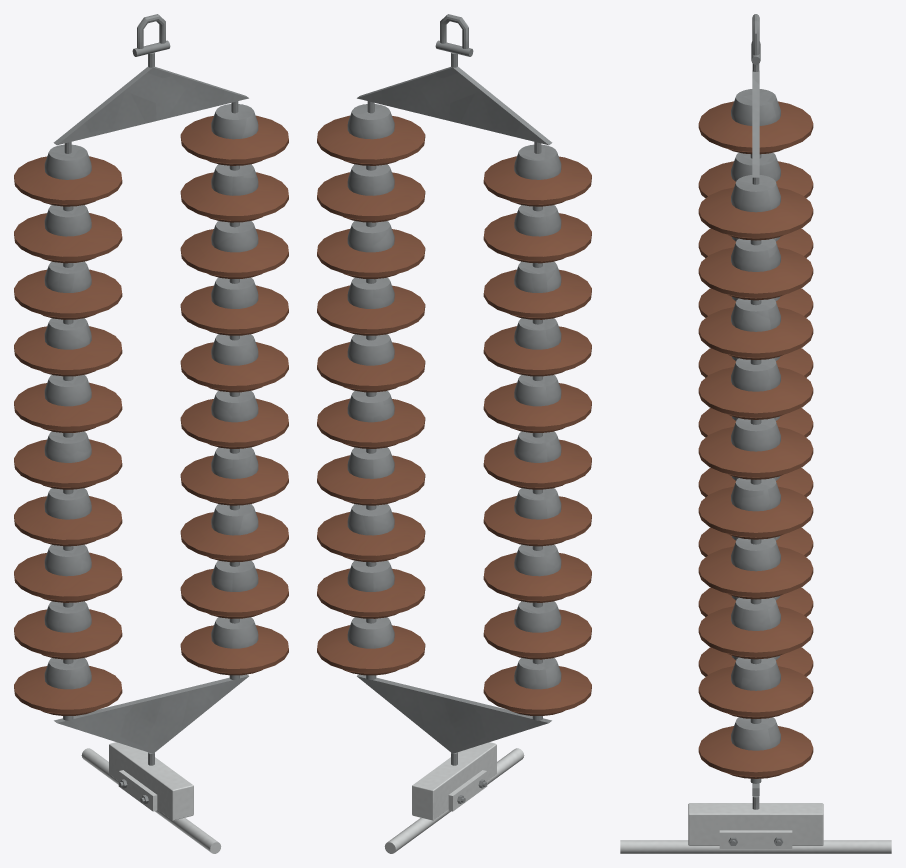
Rendered from InsulatorString_138kV_Double.fbx.
3 renders of one model, left to right at view 1: azimuth 30°, elevation 25°; view 2: azimuth 150°, elevation 25°; view 3: azimuth 270°, elevation 25°, orthographic. The views are drawn at different scales.
Visible parts, largest first — view 1: Body_PorcelainBrown_LOD0, Body_GalvanizedSteel_LOD0, Body_Aluminium_LOD0; view 2: Body_PorcelainBrown_LOD0, Body_GalvanizedSteel_LOD0, Body_Aluminium_LOD0; view 3: Body_PorcelainBrown_LOD0, Body_GalvanizedSteel_LOD0, Body_Aluminium_LOD0.
Boxes of the visible parts, x1=… form: Body_PorcelainBrown_LOD0: x1=14, y1=115, x2=288, y2=715; Body_GalvanizedSteel_LOD0: x1=44, y1=14, x2=258, y2=803; Body_Aluminium_LOD0: x1=81, y1=742, x2=221, y2=853; Body_PorcelainBrown_LOD0: x1=317, y1=115, x2=591, y2=715; Body_GalvanizedSteel_LOD0: x1=347, y1=14, x2=561, y2=803; Body_Aluminium_LOD0: x1=384, y1=742, x2=524, y2=853; Body_PorcelainBrown_LOD0: x1=698, y1=101, x2=813, y2=778; Body_GalvanizedSteel_LOD0: x1=728, y1=14, x2=783, y2=845; Body_Aluminium_LOD0: x1=620, y1=803, x2=891, y2=853.
Size of what is drawn, in the model's own units: 0.704 by 2.04 by 0.6.
